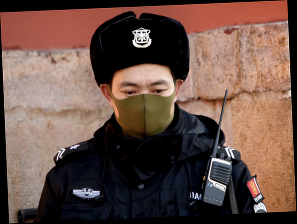with_mask: (113, 78, 178, 137)
